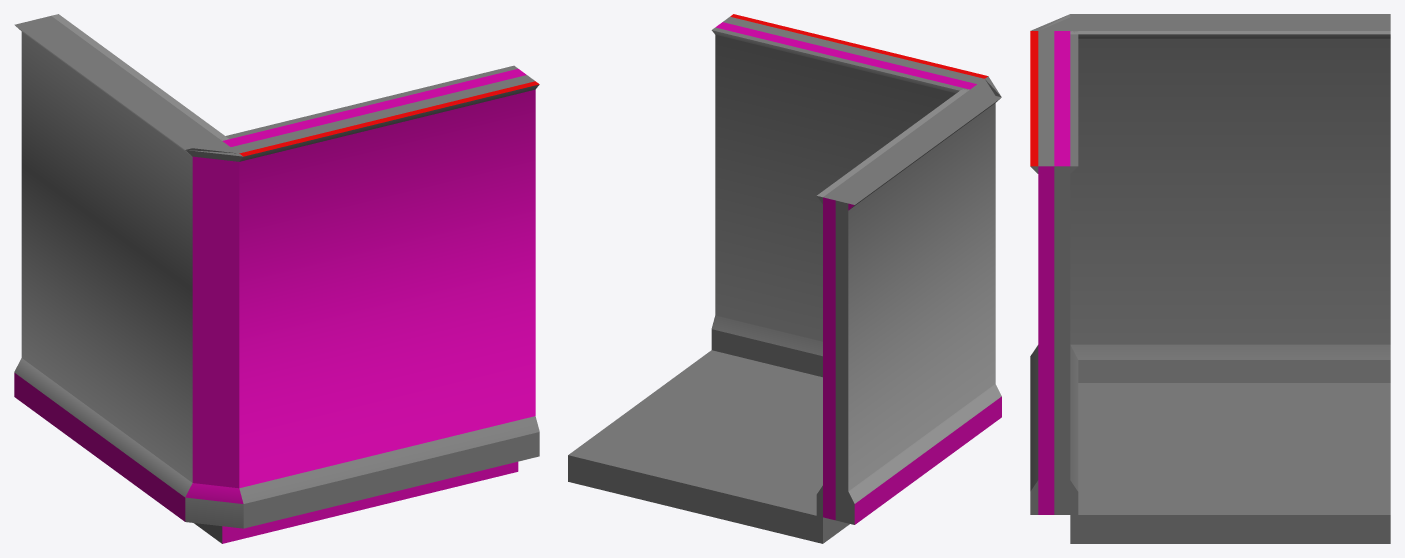
The model's file is ModularWallCorner_V2_MES.FBX.
3 renders of one model, left to right at view 1: azimuth 30°, elevation 25°; view 2: azimuth 150°, elevation 25°; view 3: azimuth 270°, elevation 25°, orthographic. The views are drawn at different scales.
Visible parts, largest first — view 1: ModularCorner; view 2: ModularCorner; view 3: ModularCorner.
Part boxes in pixels (bbox=[...]): ModularCorner: bbox=[14, 14, 539, 543]; ModularCorner: bbox=[568, 14, 1001, 543]; ModularCorner: bbox=[1030, 14, 1390, 543].
Size of the model in its own units: 113 by 130 by 113.
